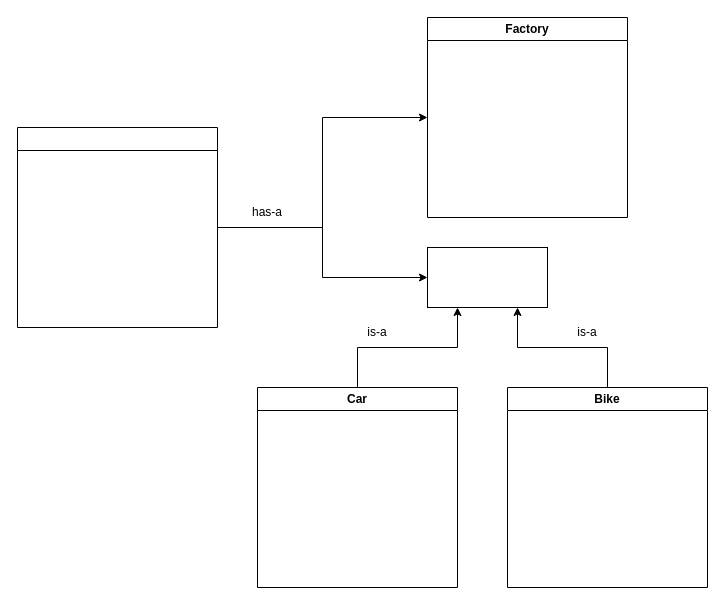
Image size: 725x605. Some labels were removed from this diagram. The centre of each missing label's shape, as x and y in pixels:
Client: the point at 117,227
Vehicle <<Interface>>: the point at 487,277
